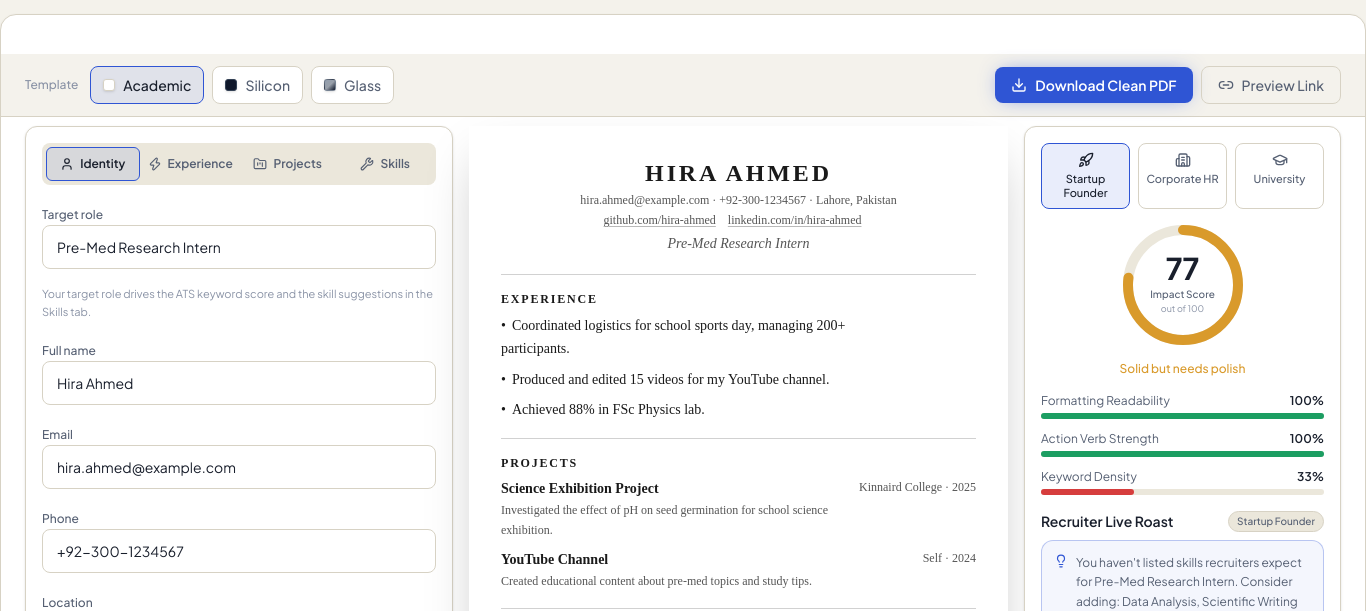
adds and removes certificates
Click the tab "Projects".
click(288, 164)  # box top-left (241, 147), bottom-right (334, 181)
(page scrolled)
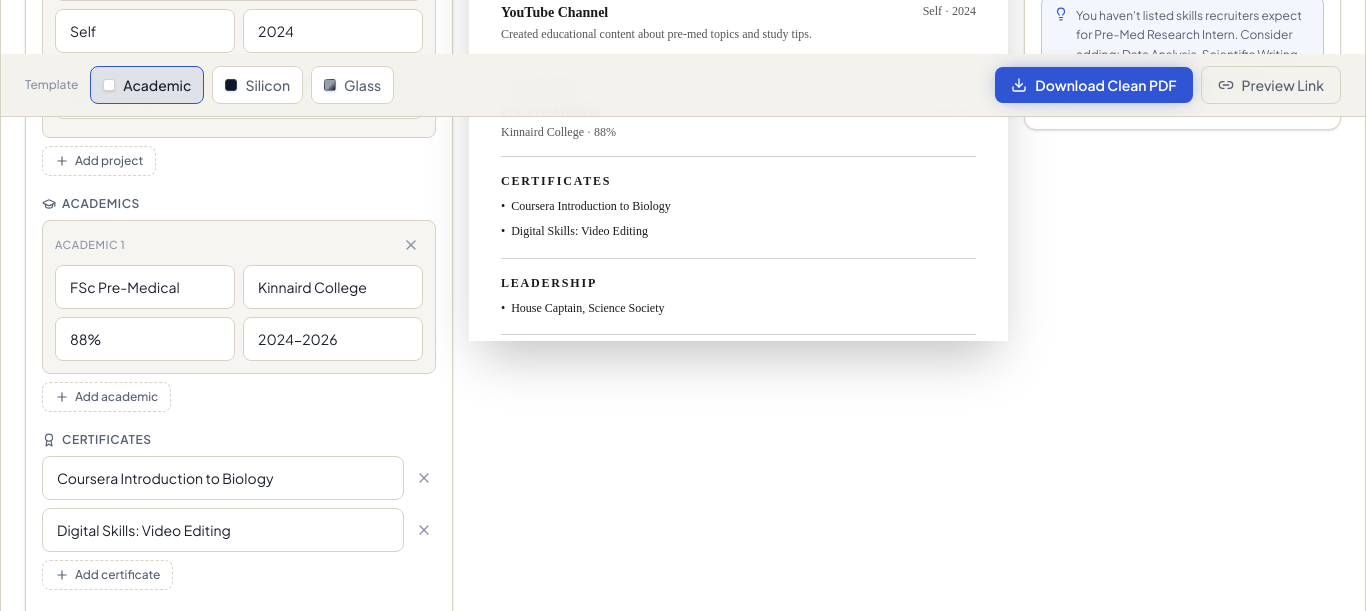
Result: the number of fields named "Certificate 0" is 2 at top-left (42, 456), bottom-right (404, 500); top-left (42, 508), bottom-right (404, 552)
Click the button "Add certificate".
click(108, 575)  # box top-left (42, 560), bottom-right (174, 590)
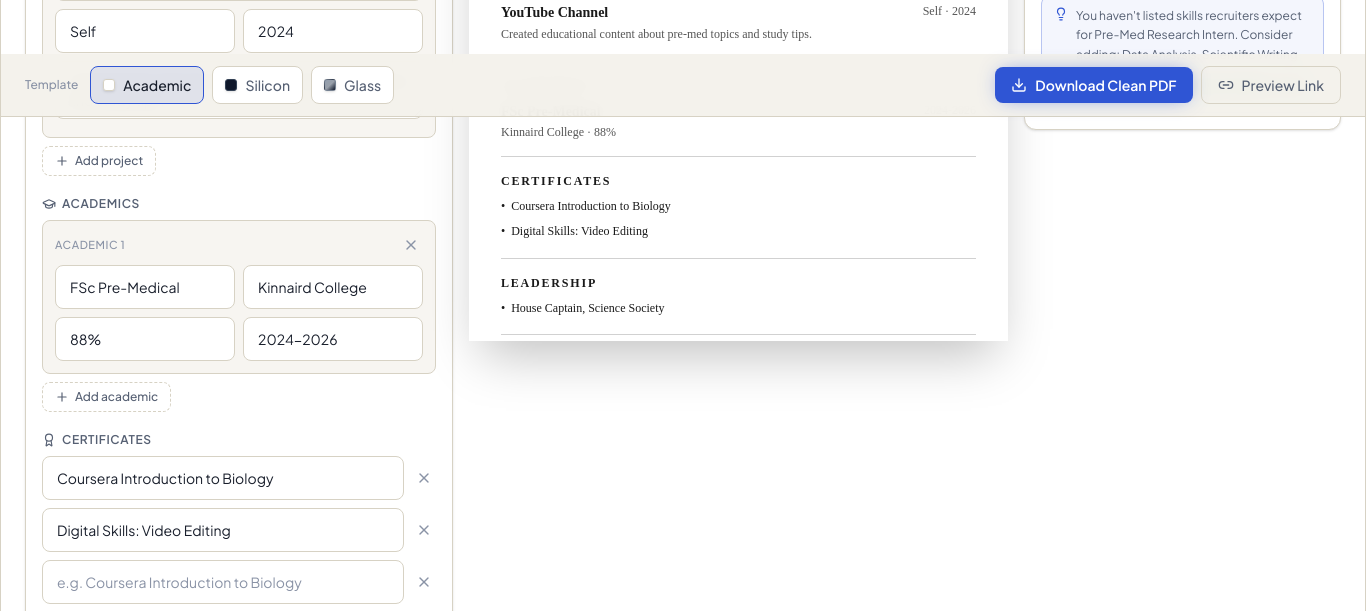
Result: the number of fields named "Certificate 0" is 3 at top-left (42, 456), bottom-right (404, 500); top-left (42, 508), bottom-right (404, 552); top-left (42, 560), bottom-right (404, 604)
Click the button named "remove certificate".
click(424, 582)  # box top-left (412, 570), bottom-right (436, 594)
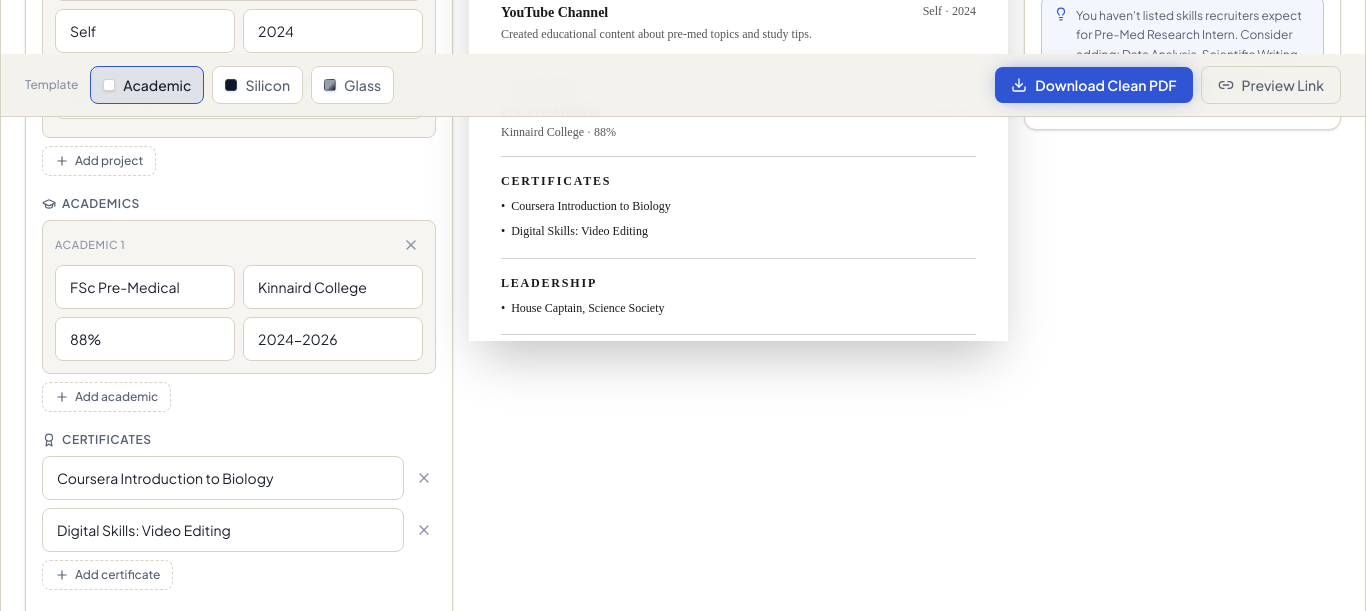
Result: the number of fields named "Certificate 0" is 2 at top-left (42, 456), bottom-right (404, 500); top-left (42, 508), bottom-right (404, 552)
